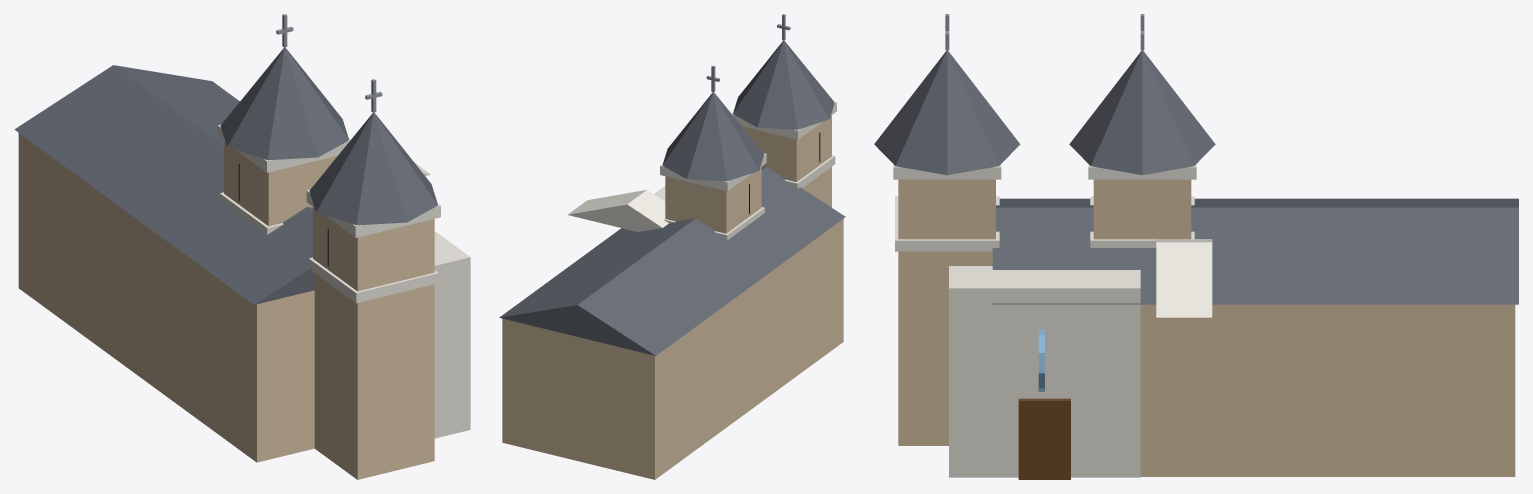
File: catedral.obj
3 renders of one model, left to right at view 1: azimuth 30°, elevation 25°; view 2: azimuth 150°, elevation 25°; view 3: azimuth 270°, elevation 25°, orthographic. The views are drawn at different scales.
Parts seen in each view (by area): view 1: catedral; view 2: catedral; view 3: catedral.
Boxes of the visible parts, x1,y1,x2,y2 form: catedral: (14, 14, 470, 479); catedral: (499, 14, 845, 479); catedral: (874, 14, 1518, 479).
Bounding box in the file's own units: 18.3 × 26 × 37.
